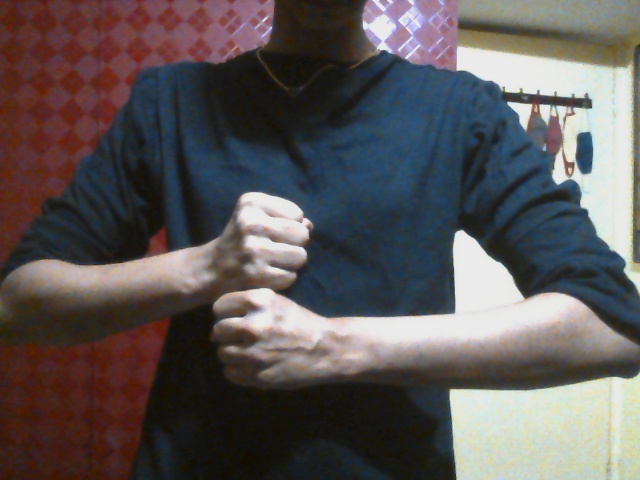G: (208, 189, 333, 394)
